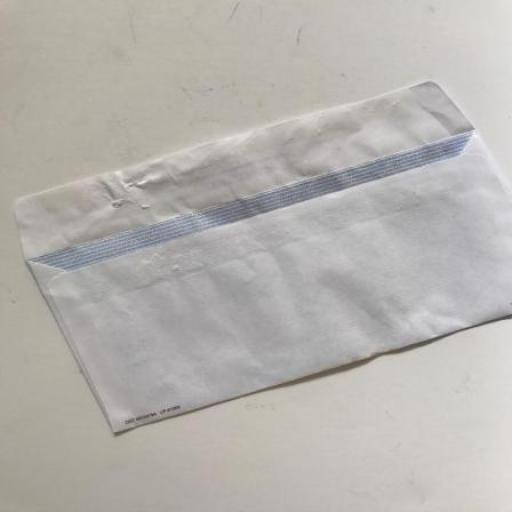paper: (12, 79, 512, 435)
